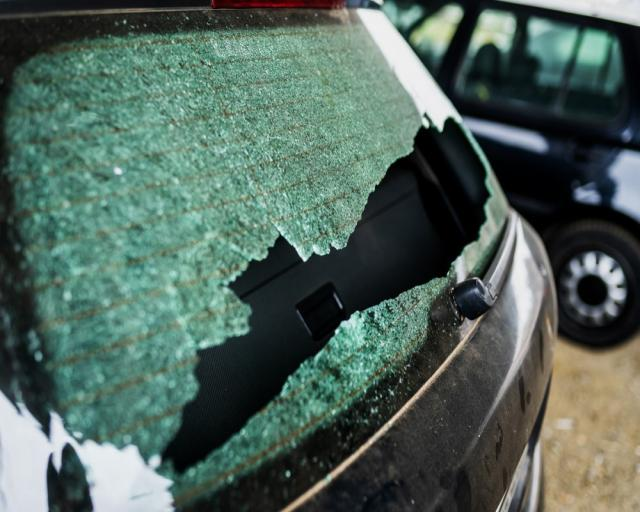glass shatter: (0, 8, 510, 512)
